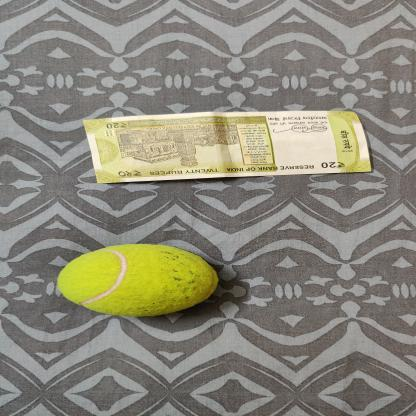New20Back: (80, 108, 377, 185)
